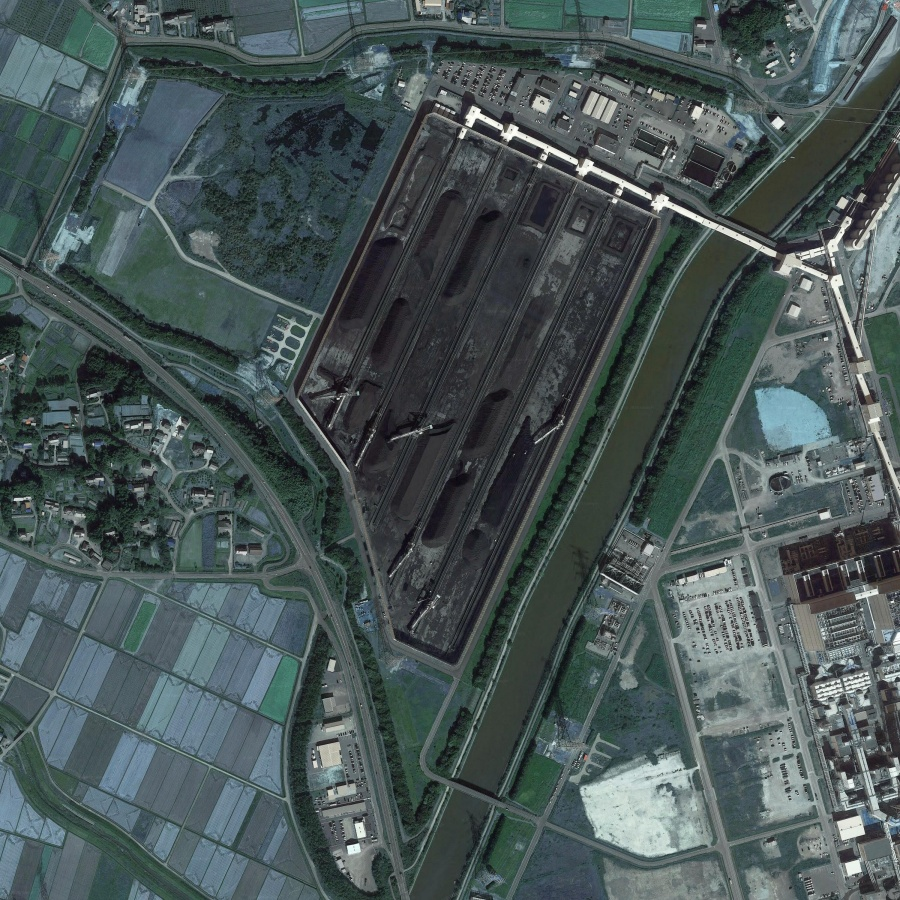PowerPlant: (297, 103, 664, 659)
